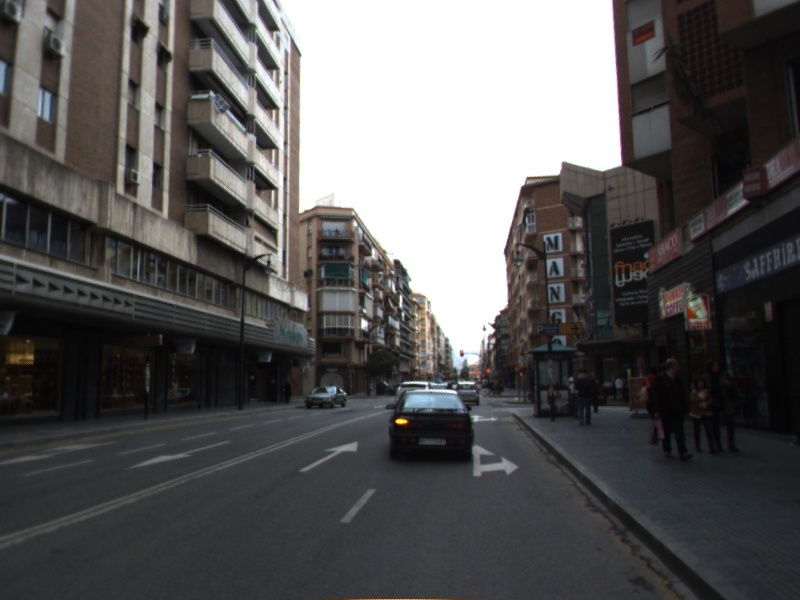STRAIGHT: (297, 439, 360, 474)
STRAIGHT_RIGHT: (469, 442, 522, 478), (469, 412, 500, 424)
